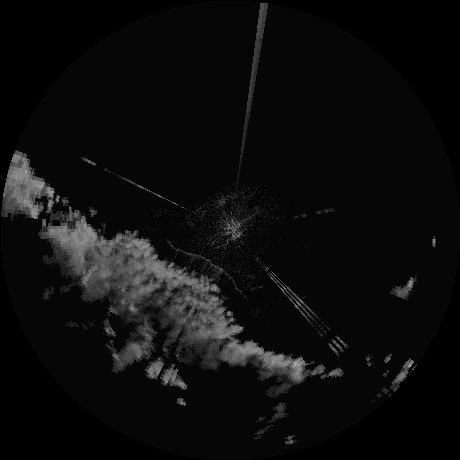frontgust: (165, 240, 246, 295)
